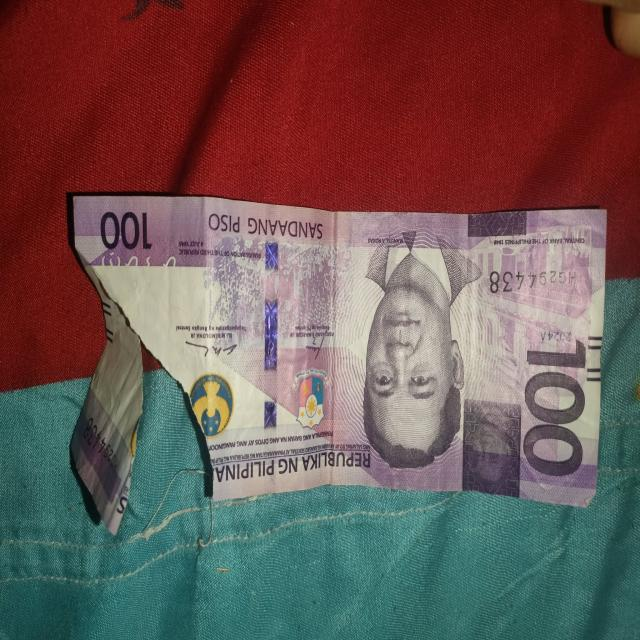broken: (67, 193, 606, 532)
torn: (94, 261, 242, 543)
